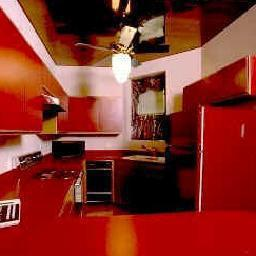Electrodomestico: (165, 113, 251, 208), (36, 168, 87, 211)
